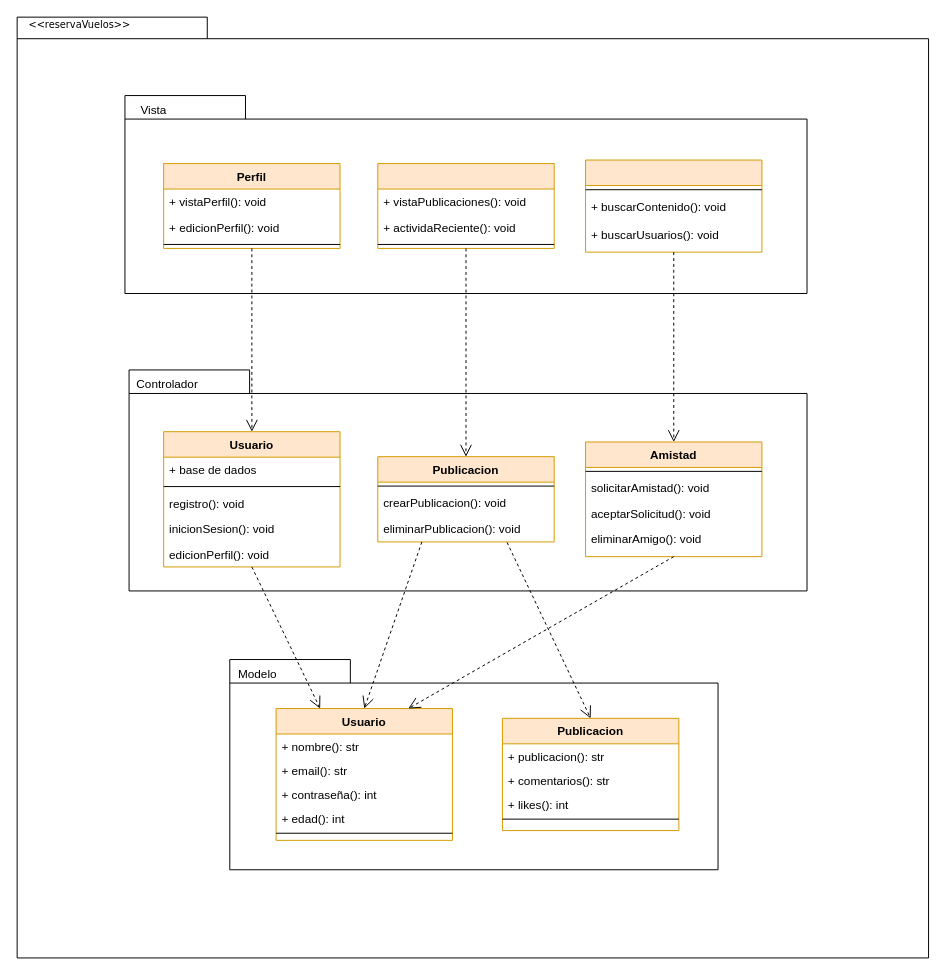
Image size: 946x975. Some labels were removed from this diagram. Here are the shapes that lost their labels. From the top down, the box of each, then its label:
(377, 163, 554, 248): Inicio
(585, 159, 762, 252): Explorer
